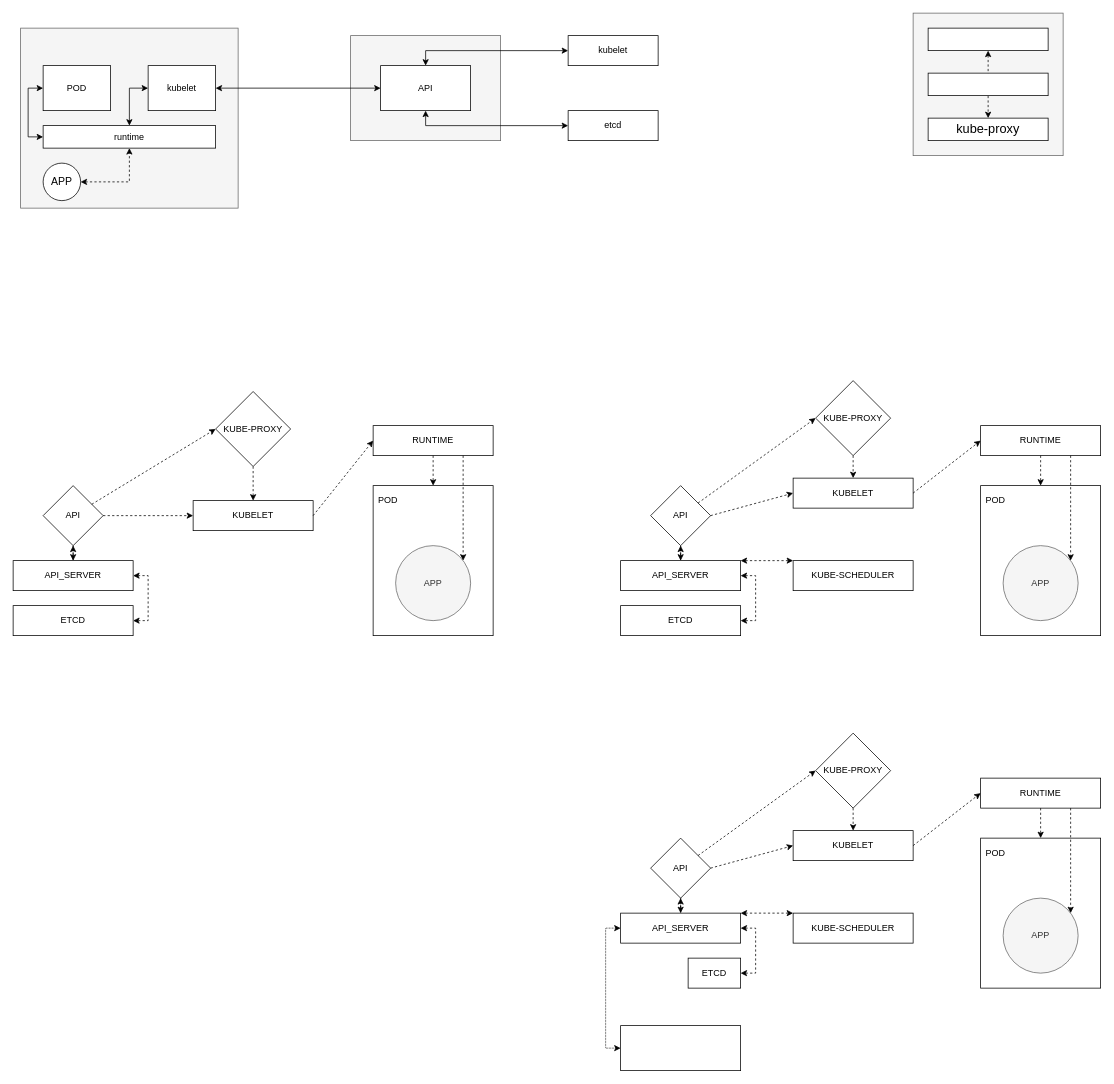
Some shapes in this 1114 by 1084 pixel diagram are drawn without their labels. Each missing label, with the centre of its shape:
iptables/nftables: point 987,84
KUBE CONTROLLER MANAGER: point 680,1048
Service IP(VIP): point 987,39
